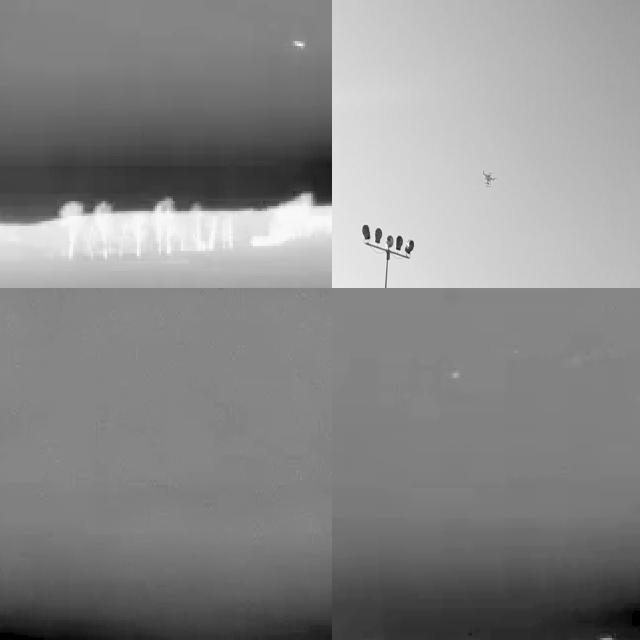0: (442, 364, 464, 390)
1: (276, 26, 322, 74)
drone: (477, 170, 496, 194)
